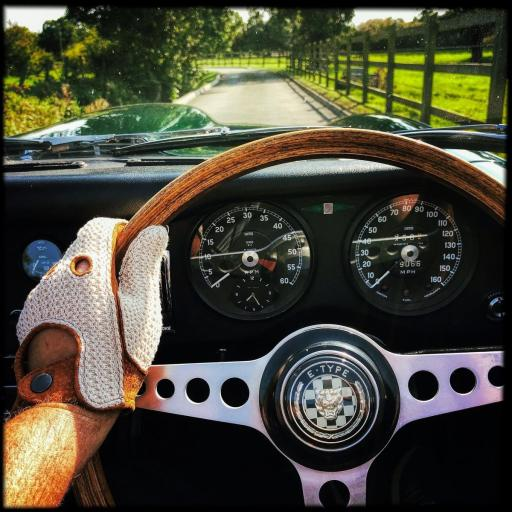Hands-on-the-Wheel: (0, 183, 207, 418)
